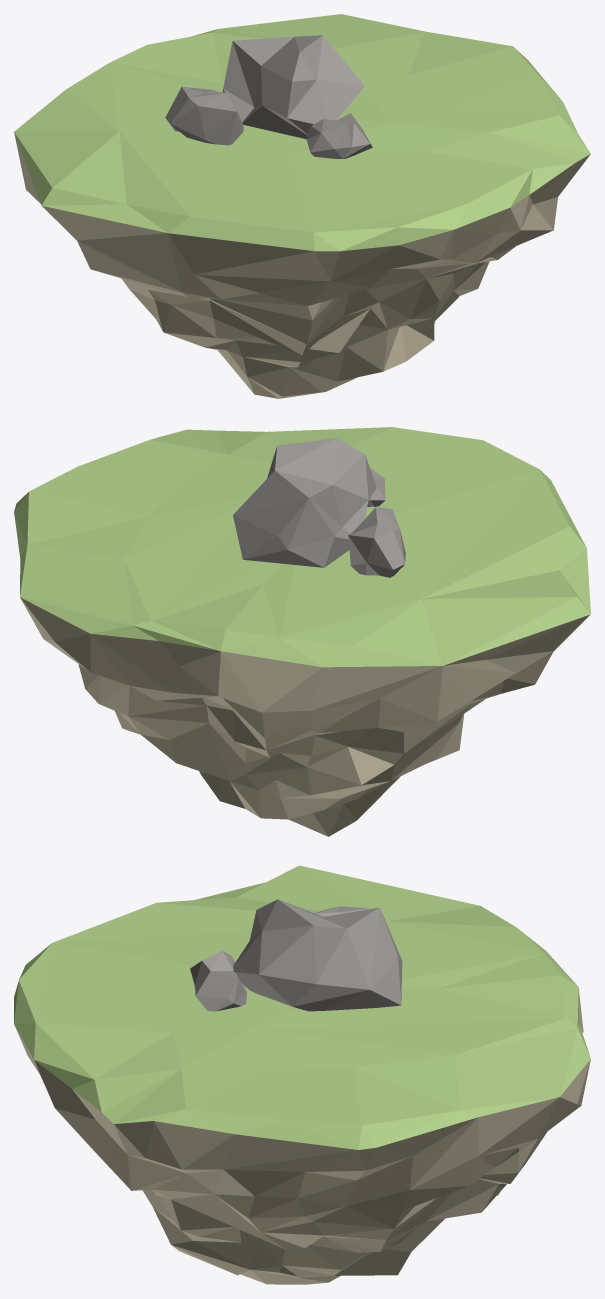
The model's file is low-poly_floating_island_and_rocks.glb.
The picture shows the model from 3 angles, top to bottom: view 1: azimuth 30°, elevation 25°; view 2: azimuth 150°, elevation 25°; view 3: azimuth 270°, elevation 25°; orthographic projection. The views are drawn at different scales.
Visible parts, largest first — view 1: polySurface1, pPlatonic1, pPlatonic3, pPlatonic2; view 2: polySurface1, pPlatonic1, pPlatonic3; view 3: polySurface1, pPlatonic1, pPlatonic2.
Part boxes in pixels (box(x1,y1,x2,y2)): polySurface1: box(14, 14, 590, 398); pPlatonic1: box(222, 35, 364, 138); pPlatonic3: box(165, 86, 243, 145); pPlatonic2: box(306, 113, 372, 158); polySurface1: box(14, 427, 590, 836); pPlatonic1: box(233, 438, 376, 567); pPlatonic3: box(348, 507, 405, 577); polySurface1: box(14, 865, 590, 1284); pPlatonic1: box(233, 899, 402, 1011); pPlatonic2: box(190, 951, 246, 1011).
Size of the model in its own units: 0.1662 by 0.1097 by 0.1473.
